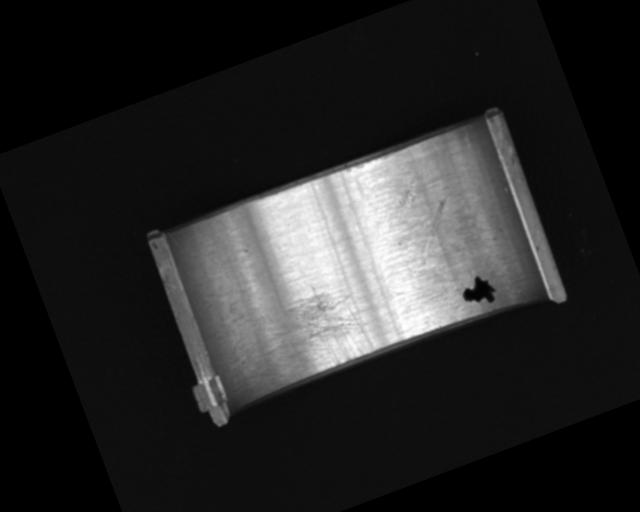blot: (456, 269, 501, 312)
bruise: (392, 178, 423, 210)
nick: (404, 199, 463, 265)
scratch: (231, 271, 377, 396)
